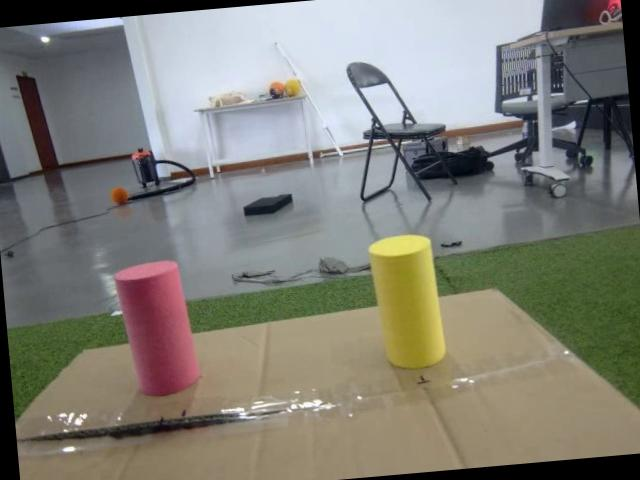red_cylinder: (112, 258, 200, 398)
yellow_cylinder: (368, 232, 444, 369)
